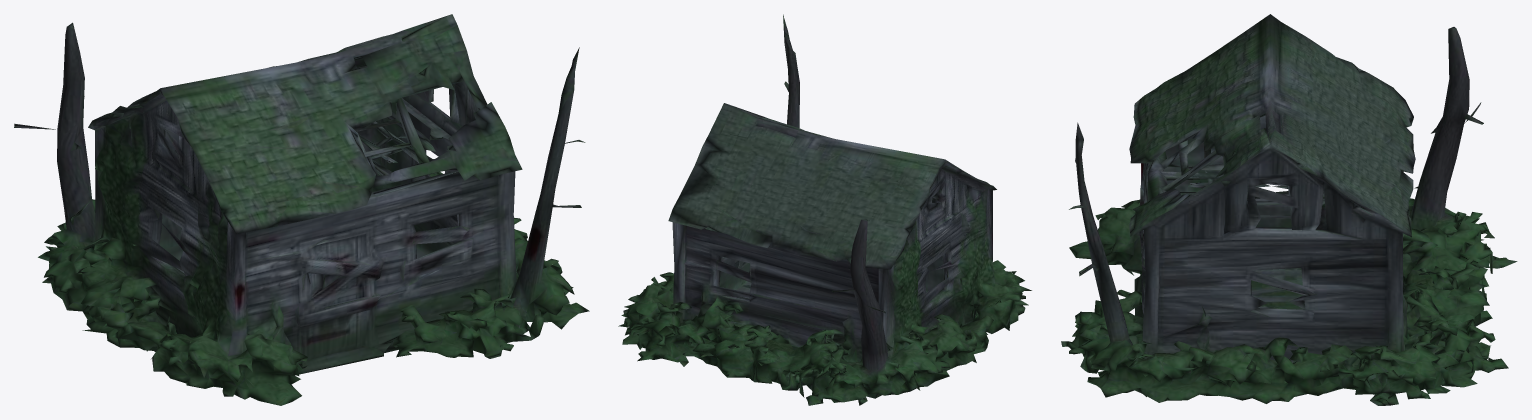
Rendered from cabin.glb.
3 views of the same model, side by side, from view 1: azimuth 30°, elevation 25°; view 2: azimuth 150°, elevation 25°; view 3: azimuth 270°, elevation 25° (orthographic). The views are drawn at different scales.
Parts seen in each view (by area): view 1: Mesh_0; view 2: Mesh_0; view 3: Mesh_0.
Part boxes in pixels (x1,y1,x2,y2): Mesh_0: [14, 14, 589, 405]; Mesh_0: [618, 14, 1031, 405]; Mesh_0: [1061, 14, 1517, 405].
Bounding box in the file's own units: 1.84 × 1.28 × 1.85.
Materials: 1 (1 with a texture image).
